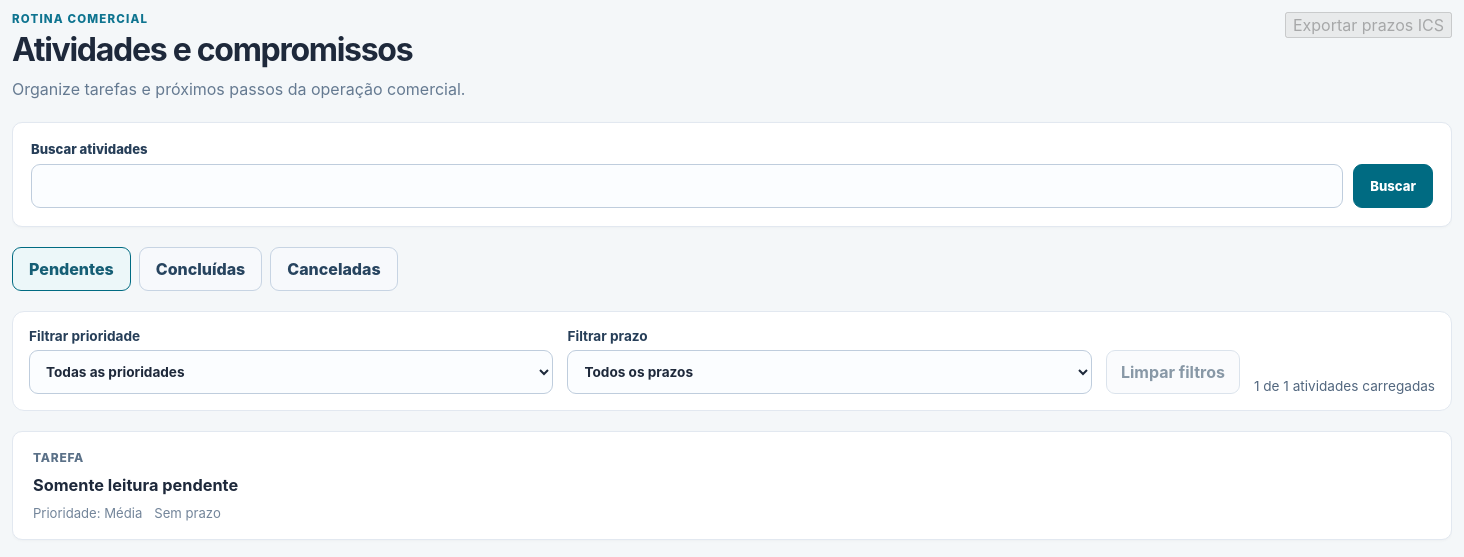
Scenario: C3.5.4 activity lifecycle › hides every lifecycle mutation for read-only users
Expected: the text "Somente leitura pendente" is shown, x1=33 y1=475 x2=238 y2=495
Click the button "Concluídas".
click(201, 269)  # box x1=139 y1=247 x2=262 y2=291
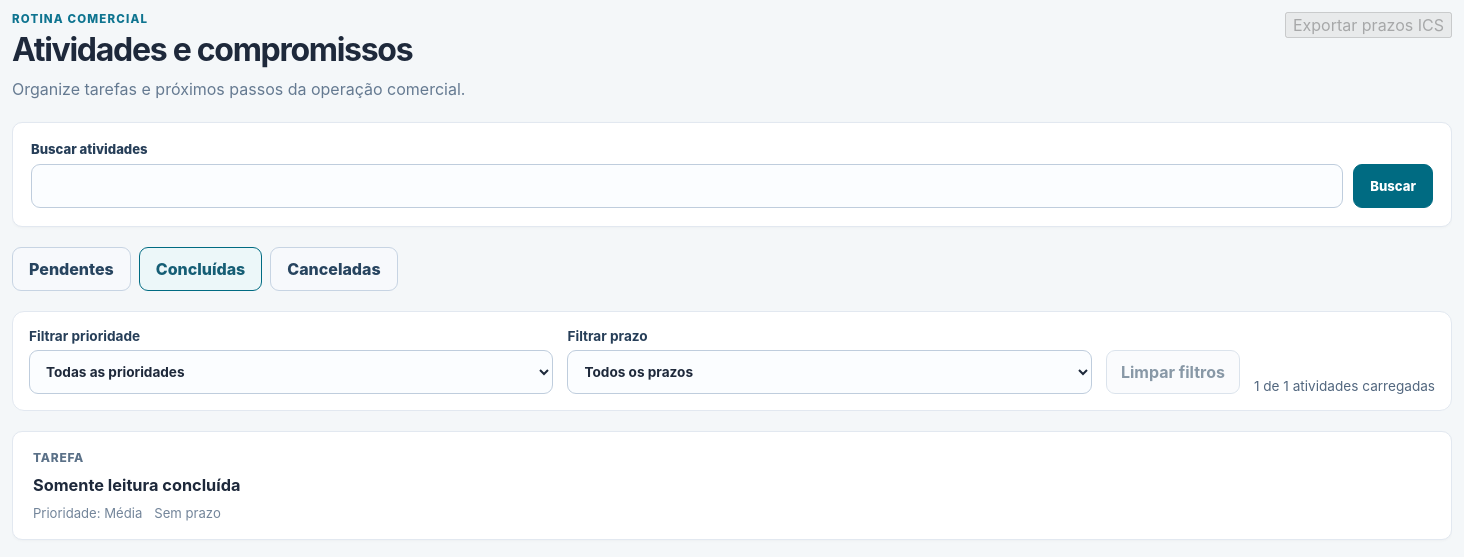
Expected: the text "Somente leitura concluída" is shown, x1=33 y1=475 x2=240 y2=495
